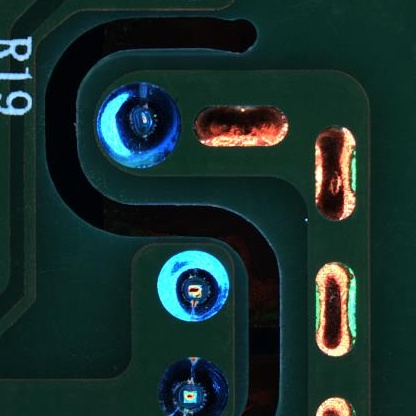spot: (97, 82, 180, 172), (158, 250, 230, 324), (157, 355, 230, 416)
